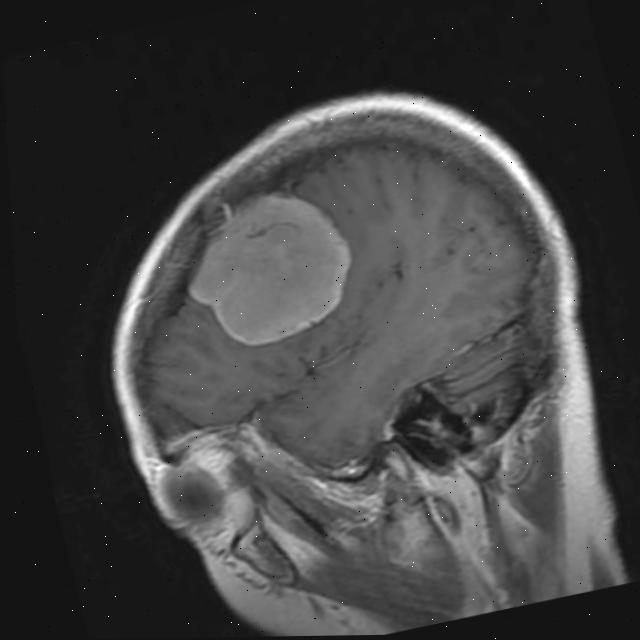Meningioma: (165, 175, 373, 360)
